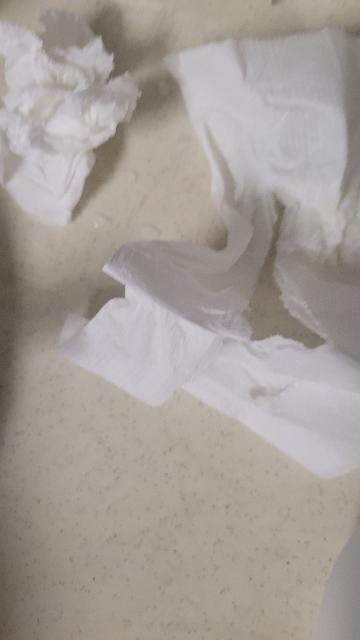Kagit: (114, 30, 360, 490), (0, 10, 149, 246)
